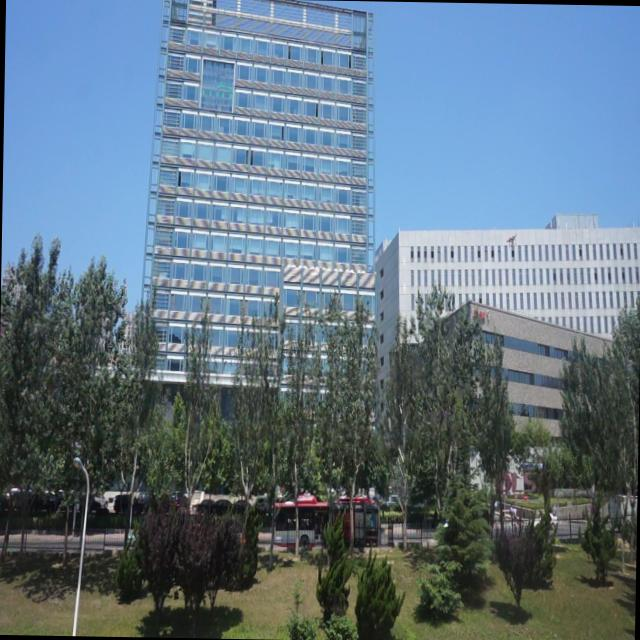drone: (504, 232, 518, 247)
